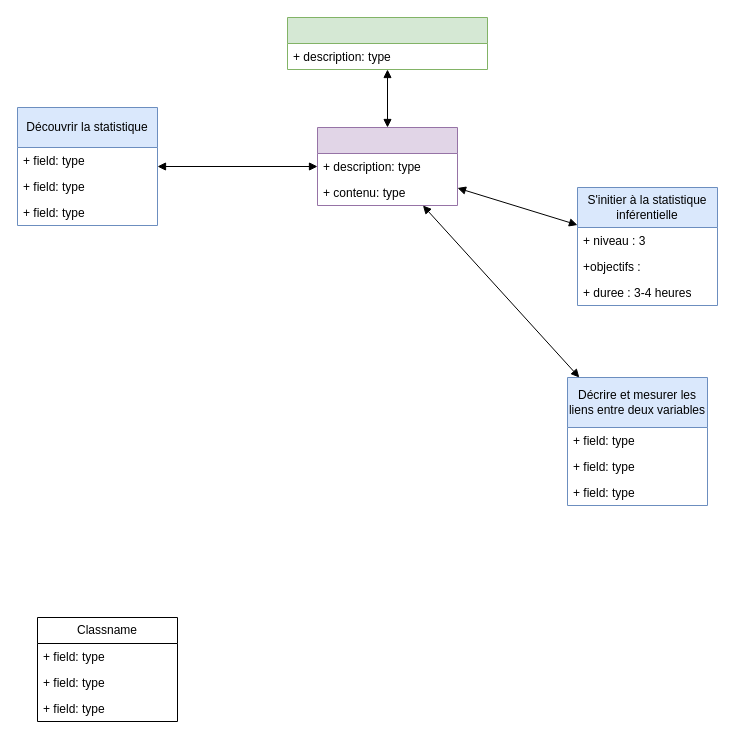
This 735x742 diagram has some shape labels left out. The shapes that lost their labels are listed below. From the top down, each one's box as (x1, y1, x2, y2) in pixels, then its label:
(286, 16, 488, 70): Mathématiques et Statistiques
(316, 126, 458, 206): Statistiques
